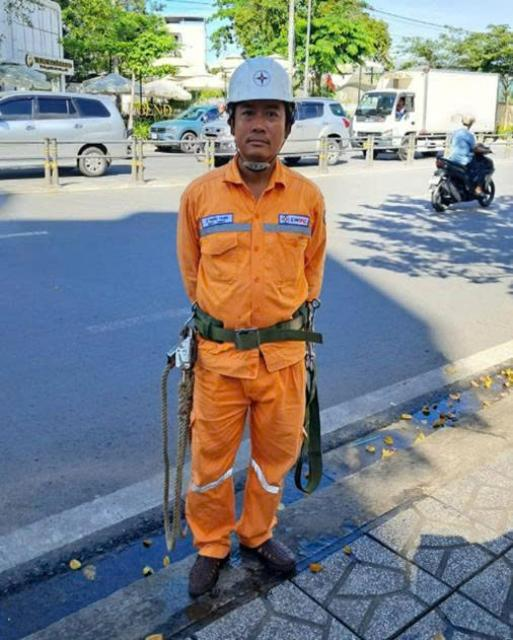harness: (178, 291, 328, 364)
helmet: (221, 50, 301, 117)
shoes: (241, 528, 299, 584), (187, 545, 229, 600)
